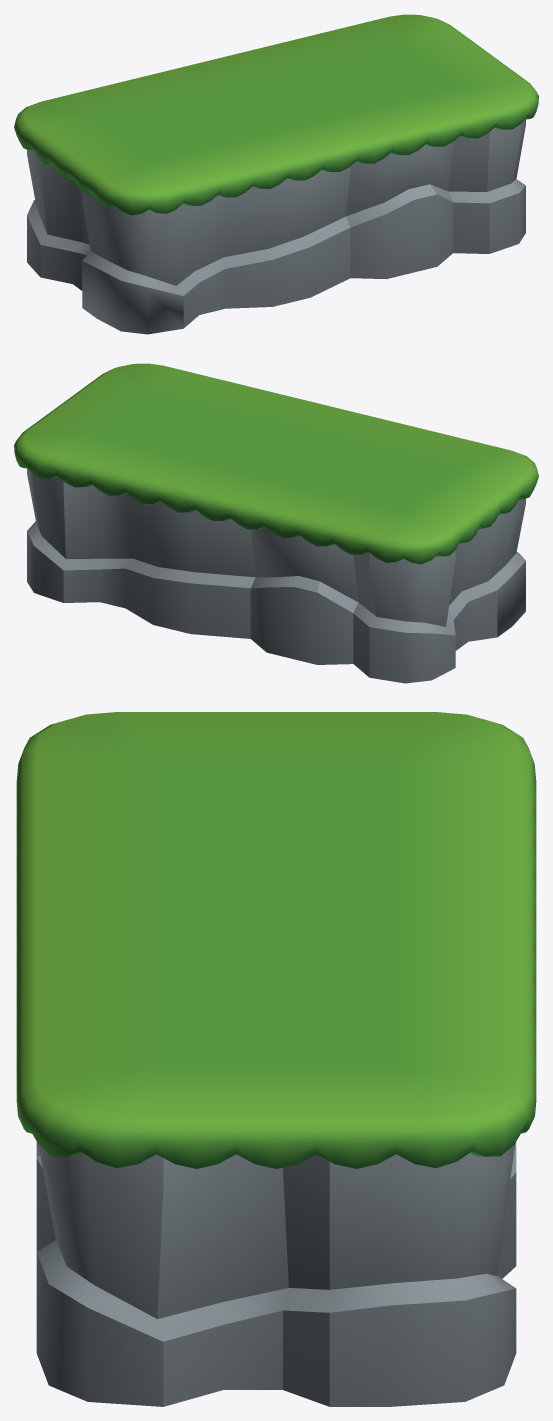
File: Hill_12x6x4_Color1.gltf
3 views of the same model, one above another, from view 1: azimuth 30°, elevation 25°; view 2: azimuth 150°, elevation 25°; view 3: azimuth 270°, elevation 25° (orthographic). The views are drawn at different scales.
Visible parts, largest first — view 1: Hill_12x6x4_Color1; view 2: Hill_12x6x4_Color1; view 3: Hill_12x6x4_Color1.
Part boxes in pixels (bbox=[...]): Hill_12x6x4_Color1: bbox=[14, 14, 538, 334]; Hill_12x6x4_Color1: bbox=[14, 363, 538, 683]; Hill_12x6x4_Color1: bbox=[16, 712, 536, 1406].
Bounding box in the file's own units: 12.5 × 4 × 6.5.
1 material, 1 textured.
